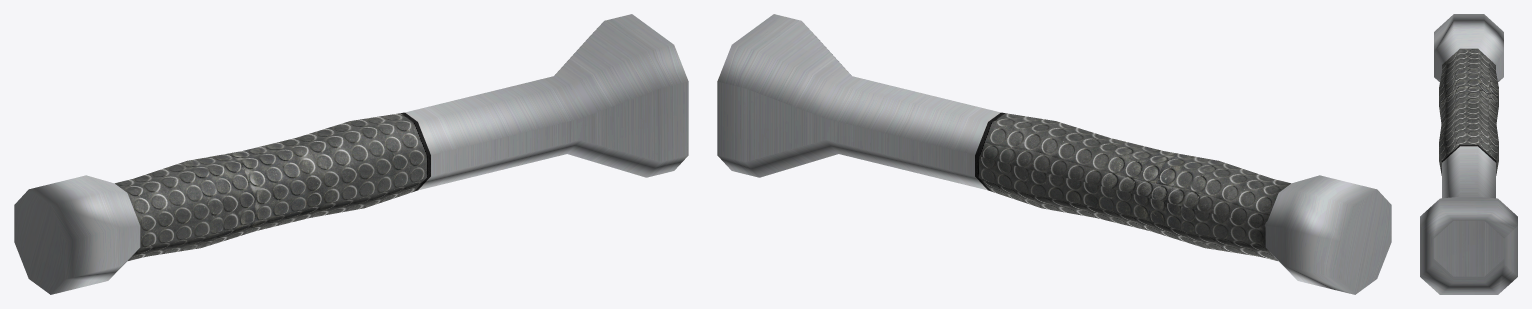
The model's file is flashlight_uved_low.FBX.
The picture shows the model from 3 angles, left to right: view 1: azimuth 30°, elevation 25°; view 2: azimuth 150°, elevation 25°; view 3: azimuth 270°, elevation 25°; orthographic projection. The views are drawn at different scales.
Parts seen in each view (by area): view 1: Box001; view 2: Box001; view 3: Box001.
Boxes of the visible parts, x1,y1,x2,y2 form: Box001: [14, 14, 688, 294]; Box001: [717, 14, 1391, 294]; Box001: [1420, 14, 1517, 294].
Size of the model in its own units: 163 by 32.01 by 32.65.
